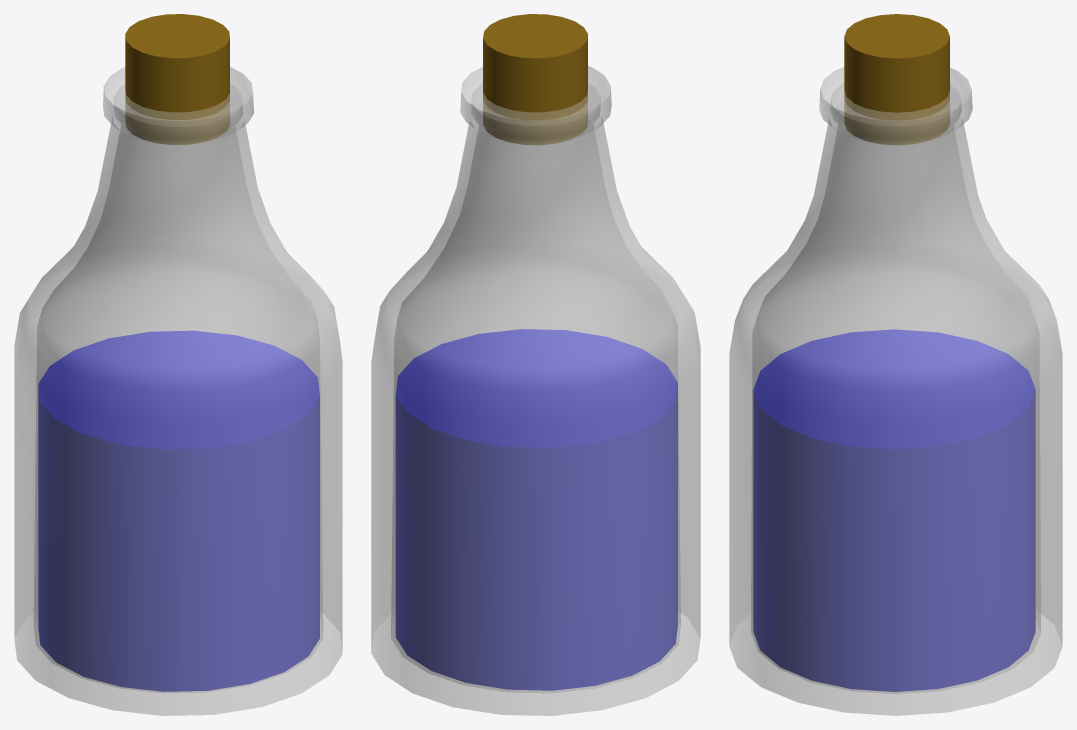
The model's file is PotionMana.fbx.
The picture shows the model from 3 angles, left to right: view 1: azimuth 30°, elevation 25°; view 2: azimuth 150°, elevation 25°; view 3: azimuth 270°, elevation 25°; orthographic projection.
Parts seen in each view (by area): view 1: pCylinder8; view 2: pCylinder8; view 3: pCylinder8.
Boxes of the visible parts, x1=… form: pCylinder8: x1=14, y1=14, x2=342, y2=715; pCylinder8: x1=371, y1=14, x2=700, y2=715; pCylinder8: x1=729, y1=14, x2=1062, y2=715.
Size of the model in its own units: 8.82 by 18.12 by 8.93.
